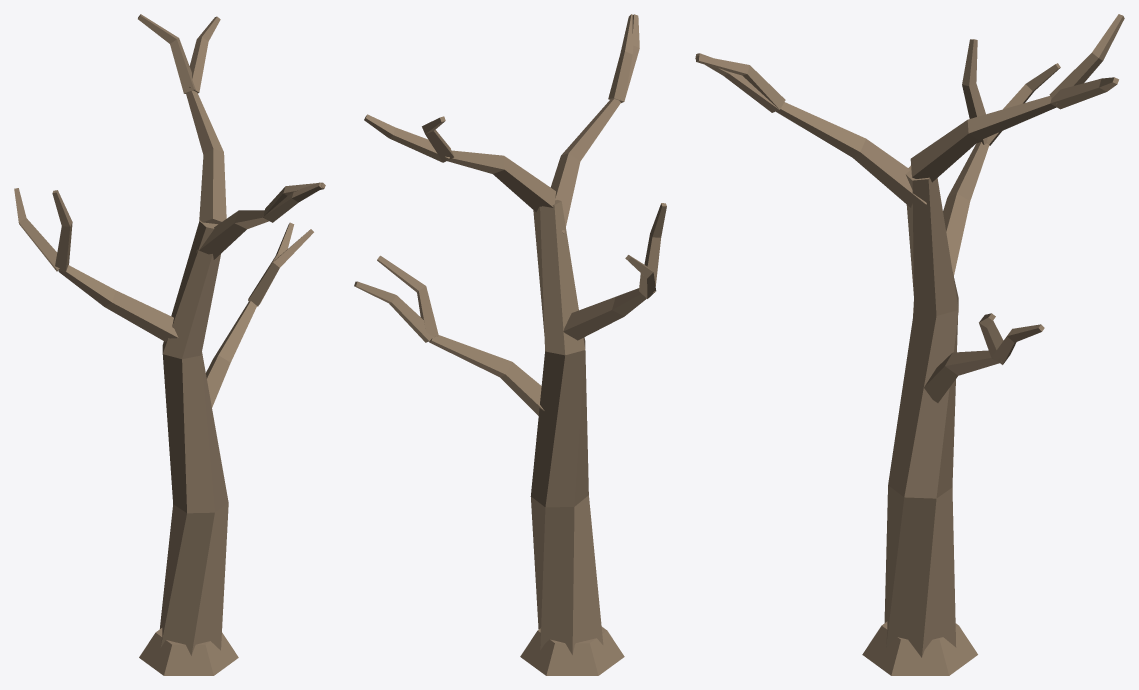
The model's file is dead_tree.glb.
3 renders of one model, left to right at view 1: azimuth 30°, elevation 25°; view 2: azimuth 150°, elevation 25°; view 3: azimuth 270°, elevation 25°, orthographic. The views are drawn at different scales.
Visible parts, largest first — view 1: dead_tree; view 2: dead_tree; view 3: dead_tree.
Part boxes in pixels (bbox=[...]): dead_tree: bbox=[14, 14, 325, 675]; dead_tree: bbox=[354, 14, 666, 675]; dead_tree: bbox=[695, 14, 1124, 675].
Bounding box in the file's own units: 1.16 × 2.28 × 1.33.
